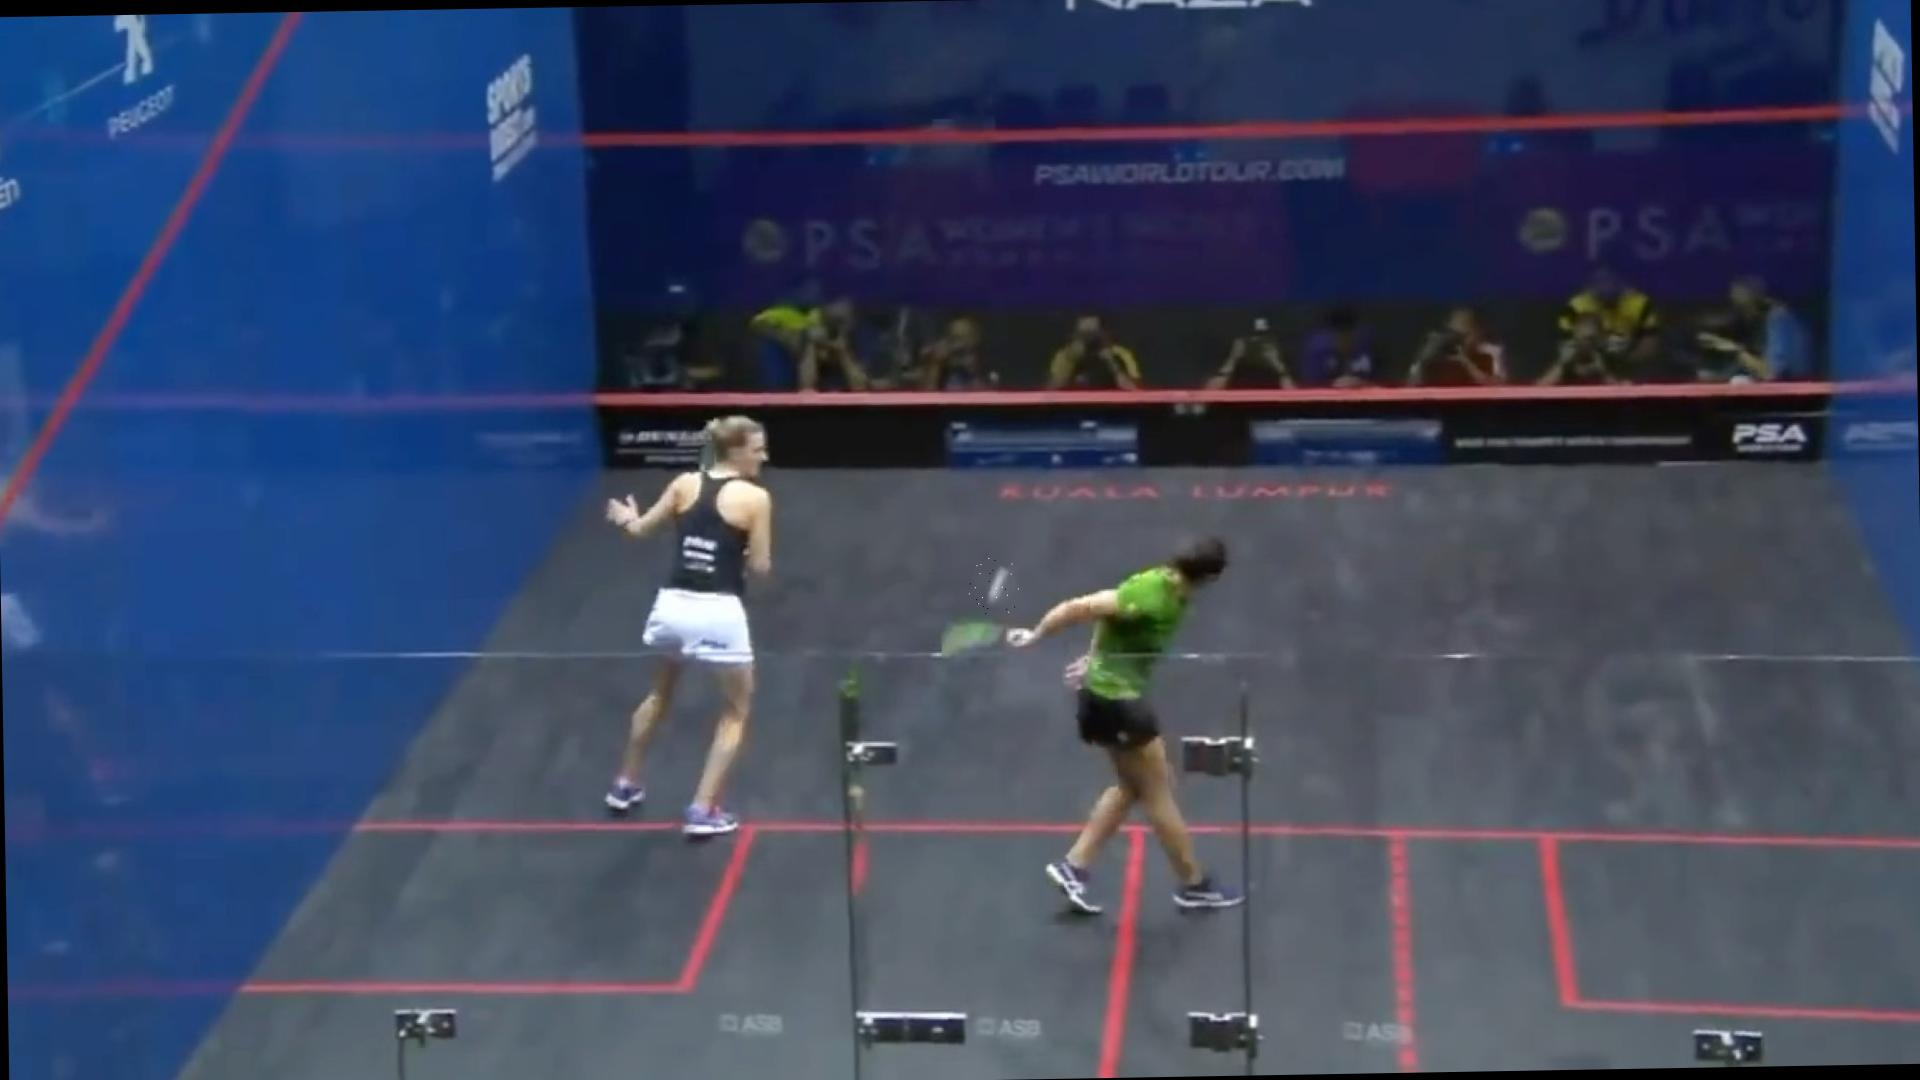Squash-Ball: (968, 555, 1019, 613)
